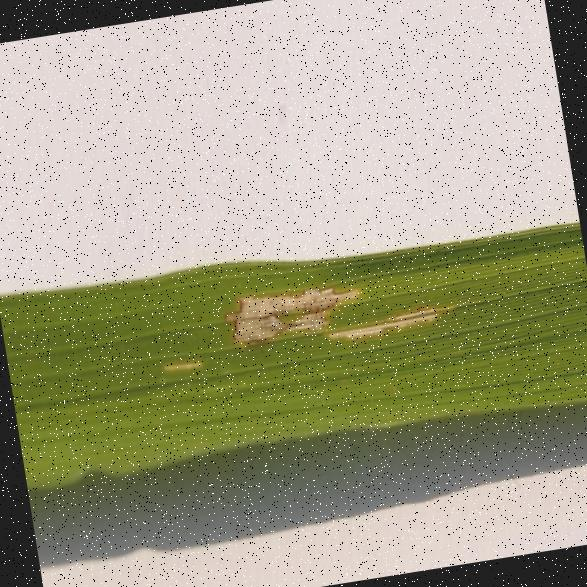Bacteria_Leaf_Blight: (142, 245, 506, 418)
